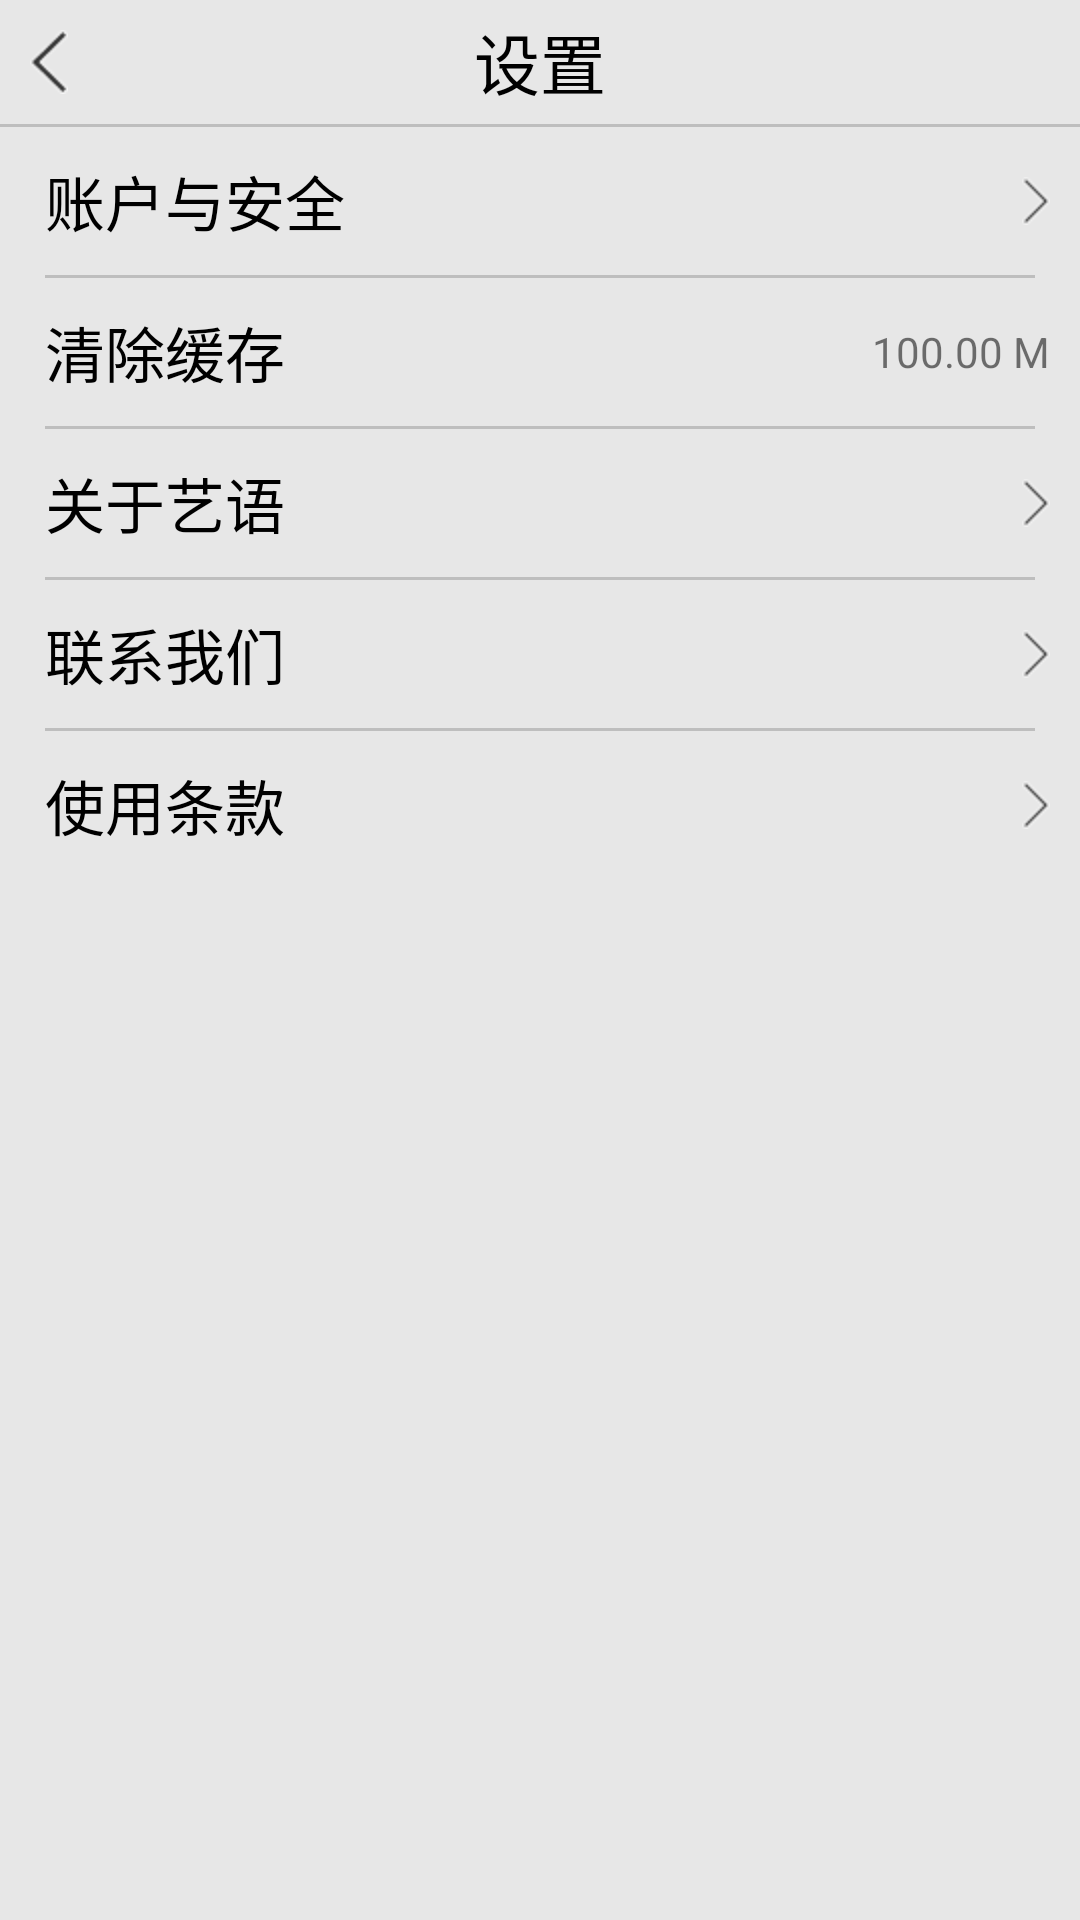

Icon bounding boxes for this 1080x1920 phone screenshot, format bbox=(x1, y1, x2, y2):
arrow left back: bbox=(32, 32, 66, 92)
